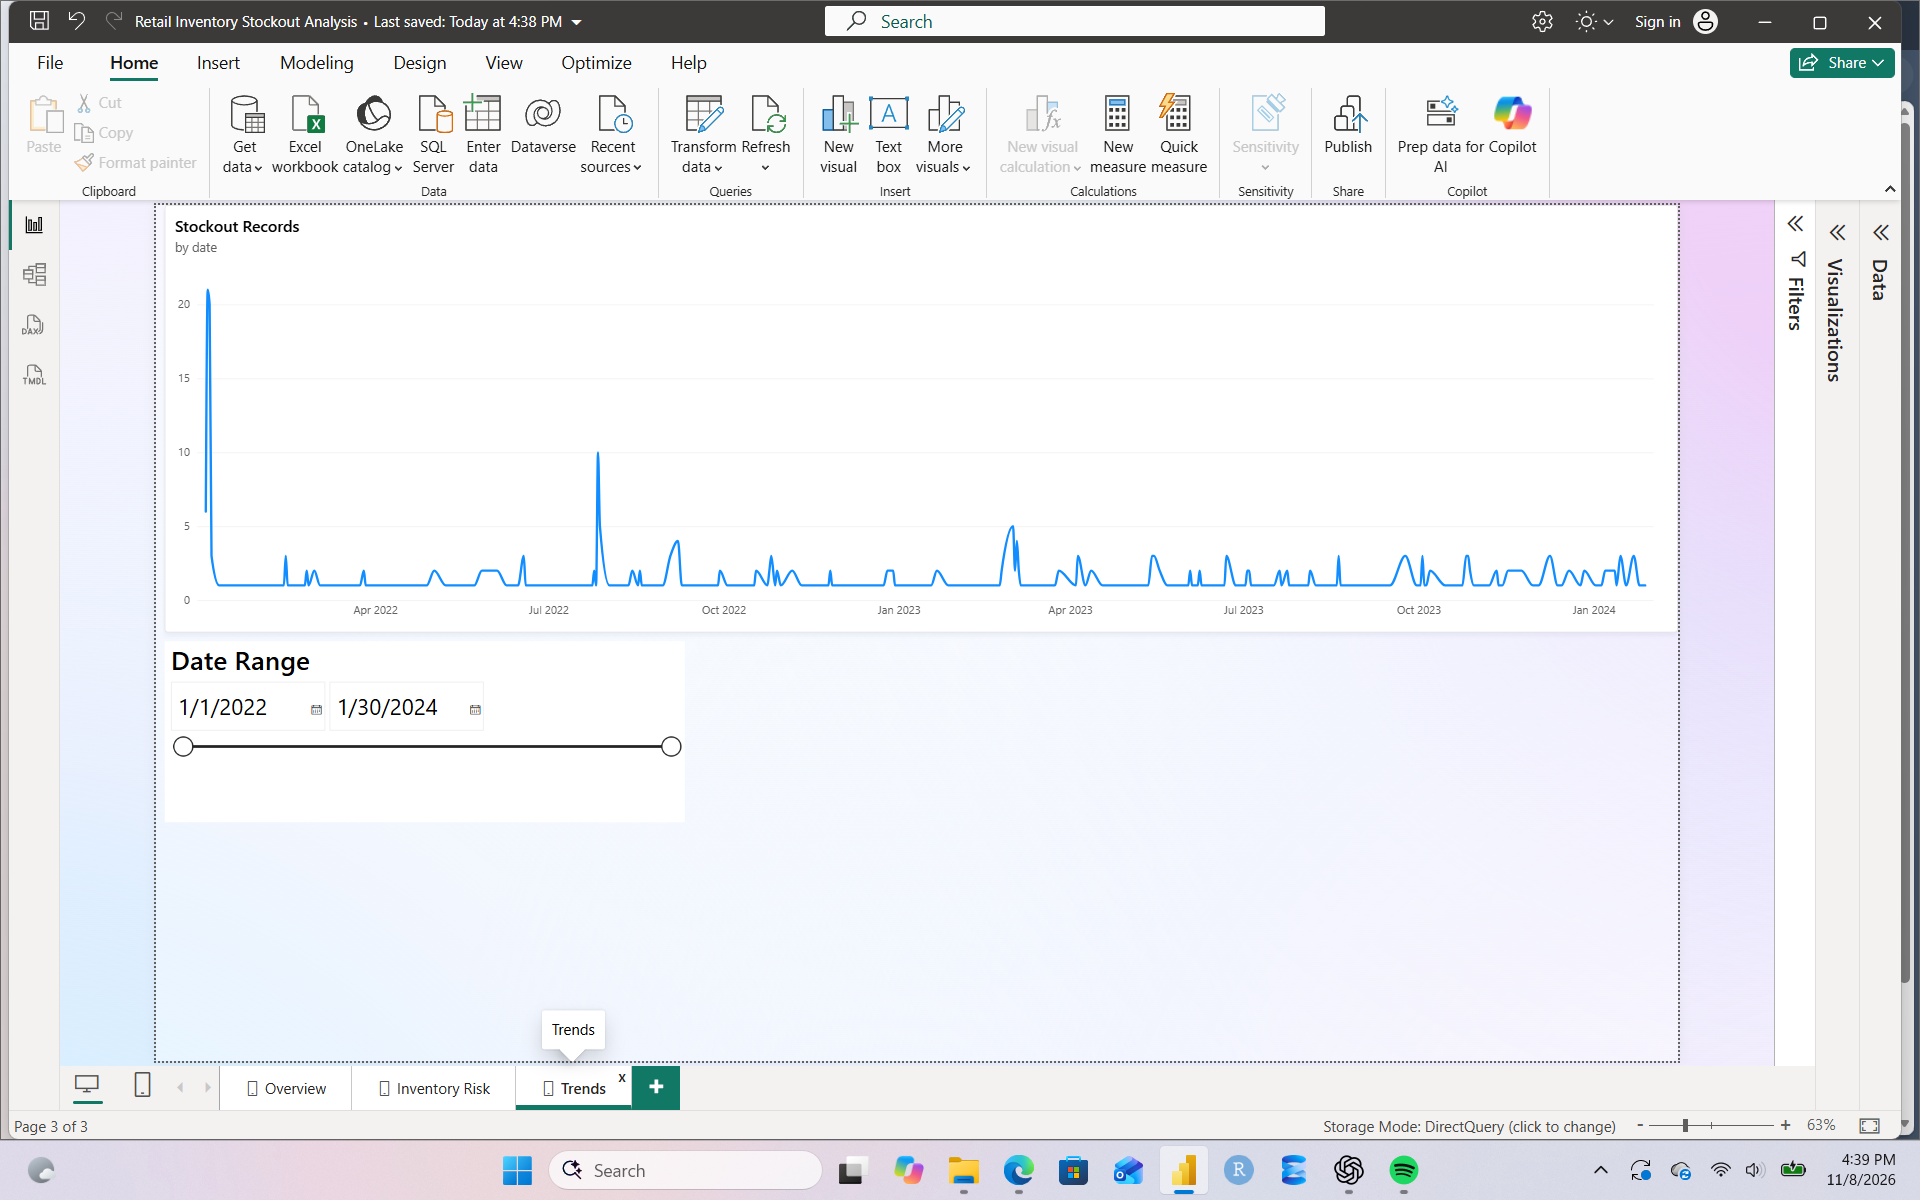

The page's visual inventory and layout, read from the dashboard file:
{"tool":"powerbi","page":{"name":"Trends","canvas":[1920,1080],"ordinal":2},"visuals":[{"type":"lineChart","fields":{"Category":["sales_data (2).date"],"Y":["sales_data (2).Stockout Records"]},"box":[10.5,0,1909.1,539.4],"z":0},{"type":"slicer","fields":{"Values":["sales_data (2).date"]},"box":[10.5,550,655.3,227.6],"z":1}]}

Visuals, with their boxes on the page's 1920x1080 design canvas (x1, y1, x2, y2). These are canvas units, not pixel positions in the 1920x1200 screenshot, which may show the page scaled, cropped or inside an application window:
lineChart - sales_data (2).date x sales_data (2).Stockout Records: 10:0:1920:539
slicer - sales_data (2).date: 10:550:666:778
